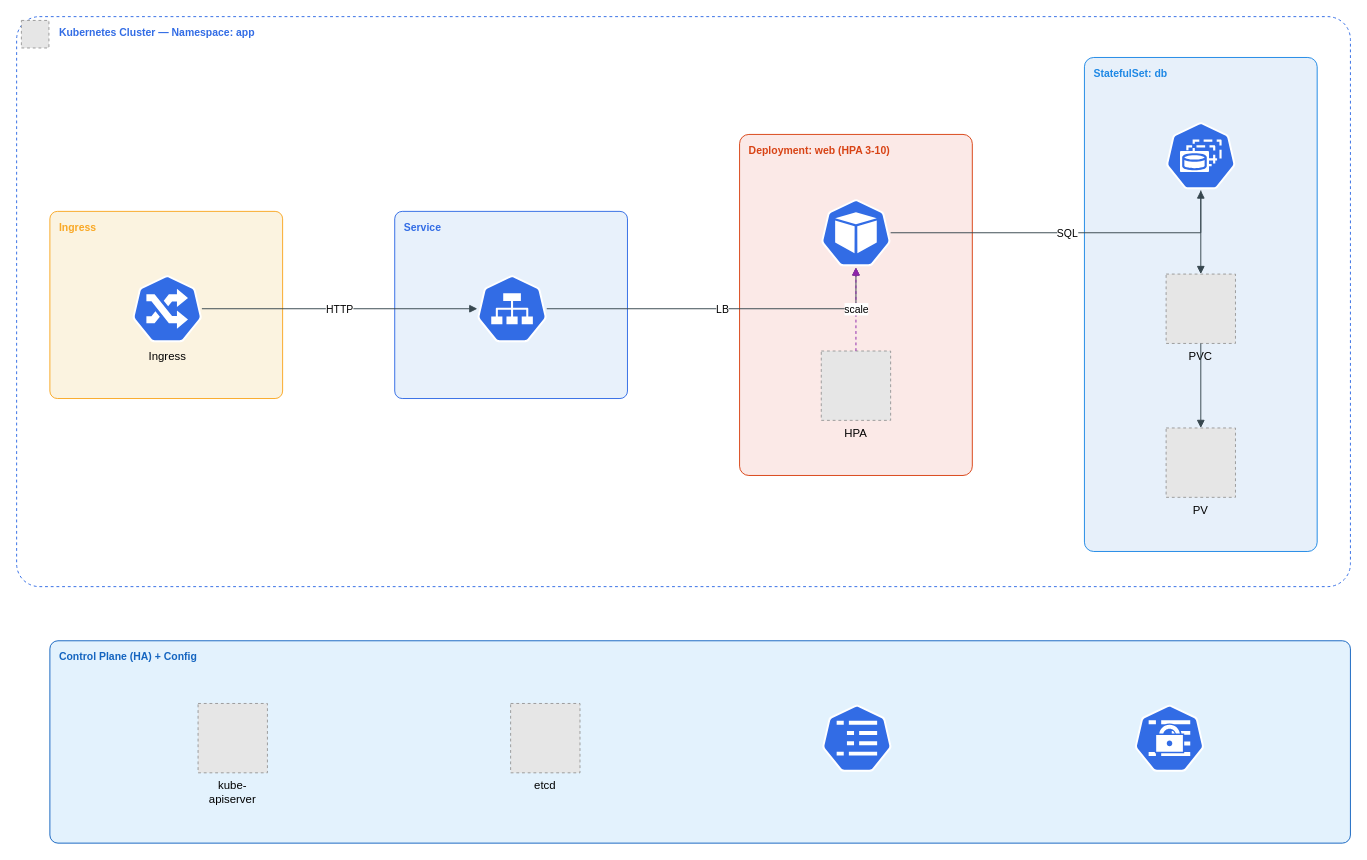
The diagram is 1367 pixels wide and 860 high, and some of its shapes have lost their labels. Grey dashed boxes stand in for pictures. Here are the shapes that lost their labels. From the top down, the centre of each, then its label:
At (1200,155): "db".
At (855,232): "Pod x3".
At (511,308): "Service (ClusterIP)".
At (856,738): "ConfigMap".
At (1169,738): "Secret".
